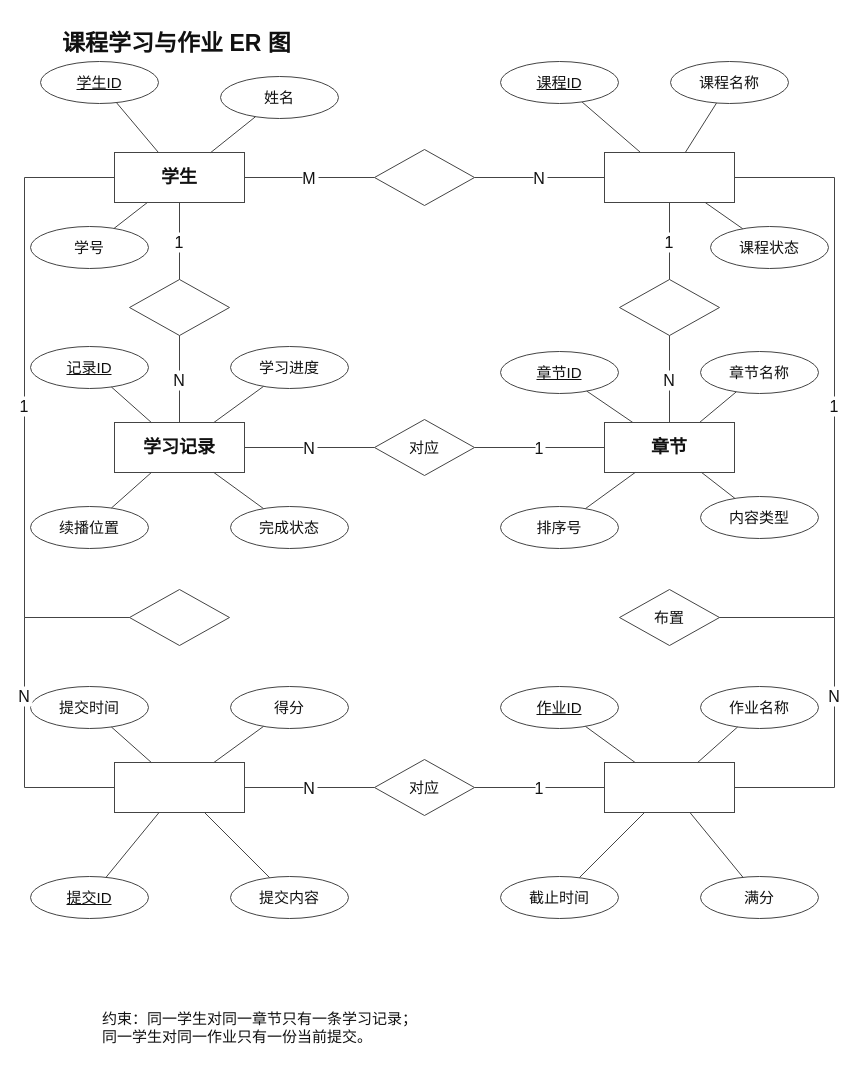
This 858x1080 diagram has some shape labels left out. The shapes that lost their labels are listed below. From the top down, each one's centre as x and y in pixels, then its label:
point 424,177: 选修
point 669,177: 课程
point 179,307: 产生
point 669,307: 包含
point 179,617: 提交
point 179,787: 作业提交
point 669,787: 作业
